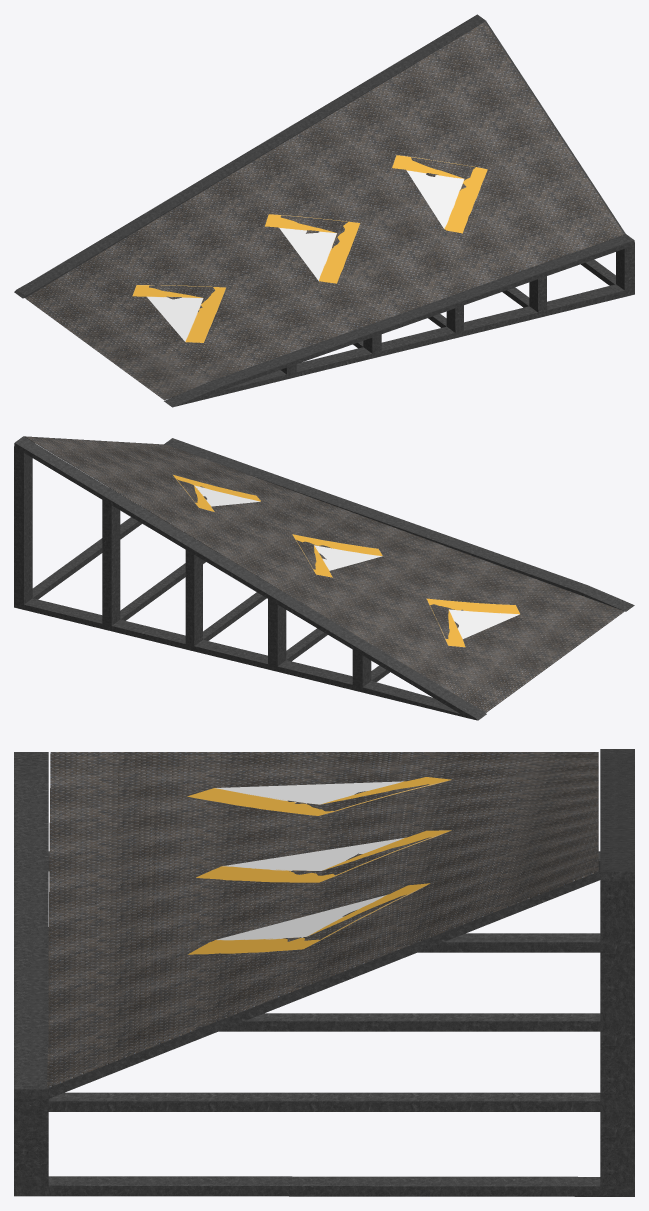
Rendered from Ramp 2.fbx.
3 renders of one model, top to bottom at view 1: azimuth 30°, elevation 25°; view 2: azimuth 150°, elevation 25°; view 3: azimuth 270°, elevation 25°, orthographic. The views are drawn at different scales.
Visible parts, largest first — view 1: Ramp, Body, Yellow arrow; view 2: Ramp, Body, Yellow arrow; view 3: Ramp, Body, Yellow arrow.
Boxes of the visible parts, <box> form: Ramp: <box>25,22,624,400</box>; Body: <box>14,14,634,407</box>; Yellow arrow: <box>132,155,487,342</box>; Ramp: <box>25,436,624,712</box>; Body: <box>14,436,634,720</box>; Yellow arrow: <box>173,475,519,647</box>; Ramp: <box>47,752,598,1087</box>; Body: <box>14,749,634,1196</box>; Yellow arrow: <box>187,777,451,954</box>.
Size of the model in its own units: 1002 by 341 by 590.
